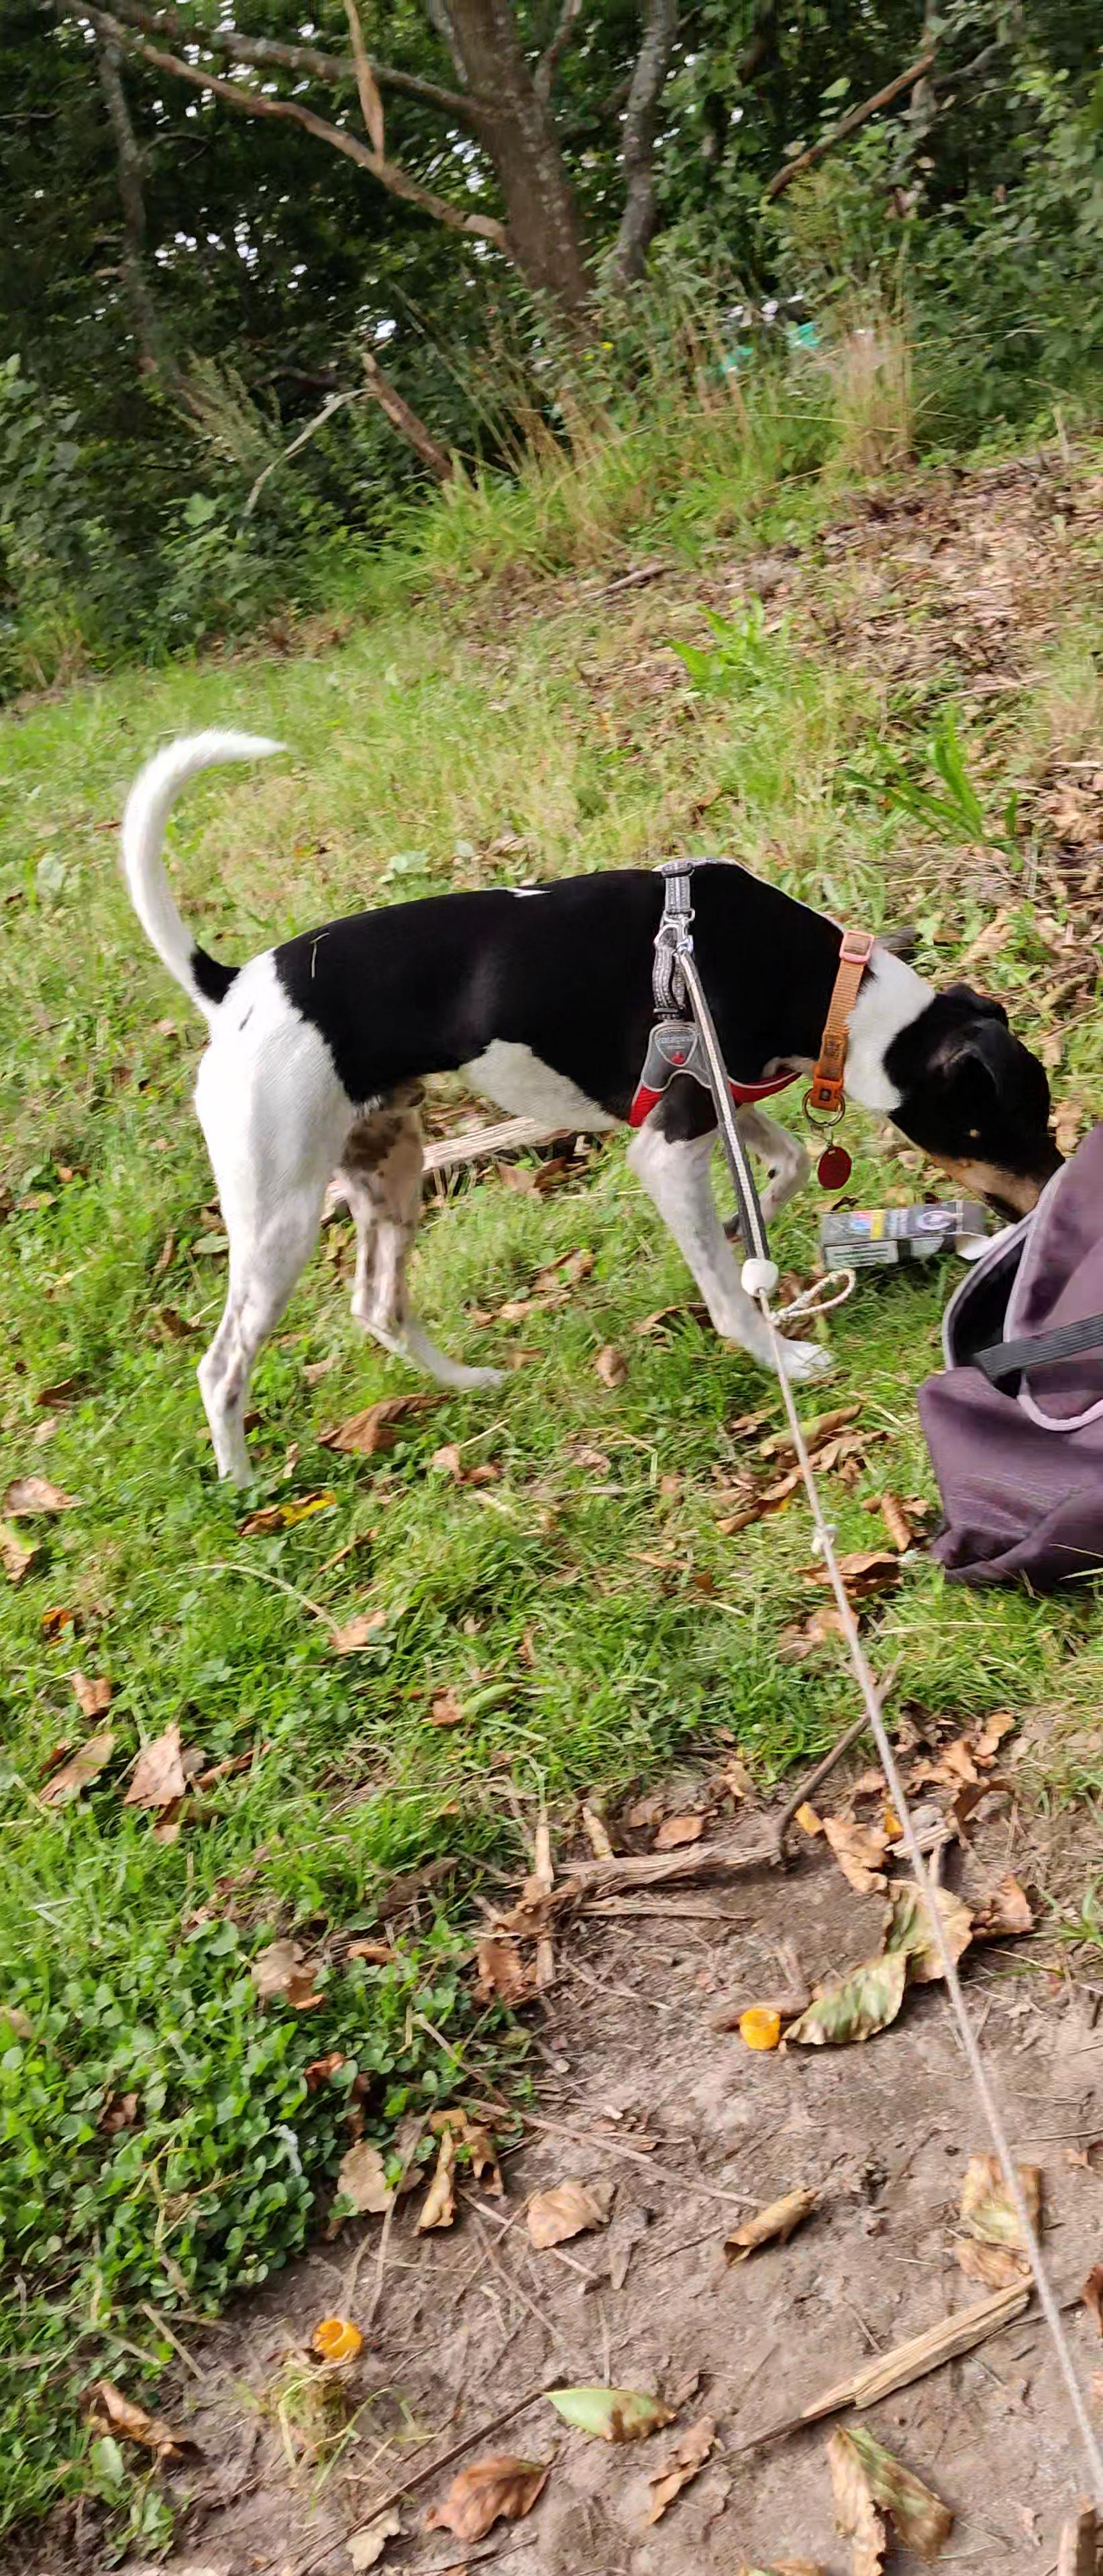Dog: (97, 687, 1073, 1493)
